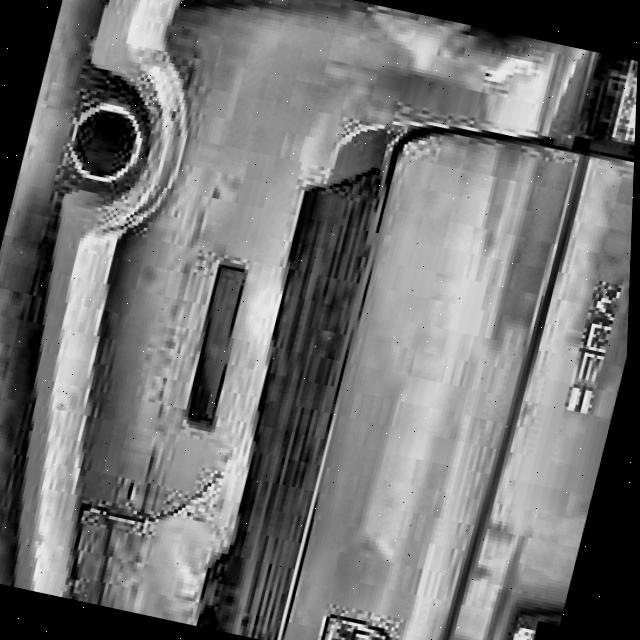bumper_dent: (356, 3, 573, 98)
